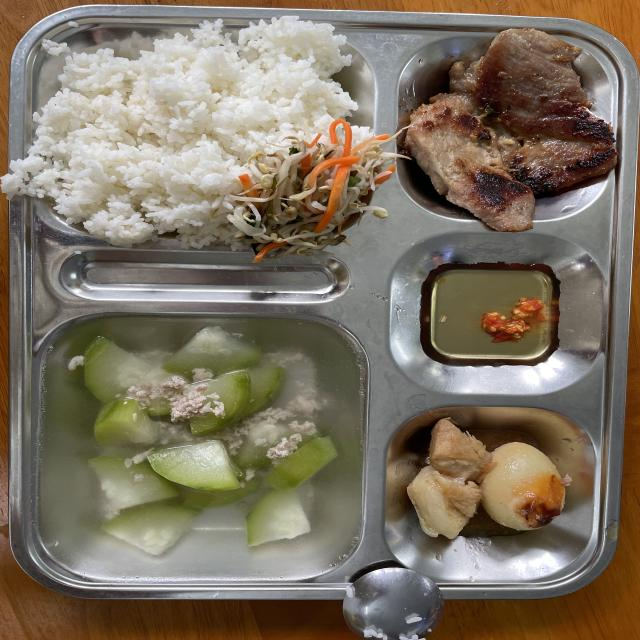canh bau: (39, 315, 363, 578)
com: (3, 17, 357, 248)
kho trung: (407, 418, 571, 539)
suon mieng: (404, 28, 617, 231)
